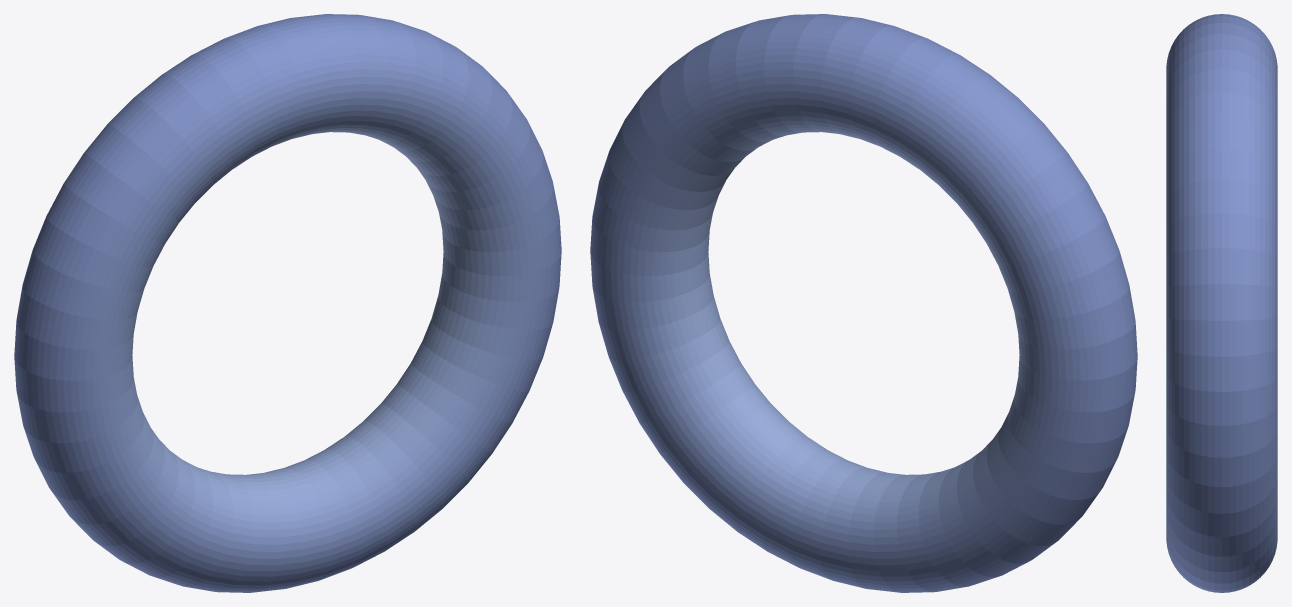
The picture shows the model from 3 angles, left to right: view 1: azimuth 30°, elevation 25°; view 2: azimuth 150°, elevation 25°; view 3: azimuth 270°, elevation 25°; orthographic projection. The views are drawn at different scales.
Visible parts, largest first — view 1: world; view 2: world; view 3: world.
Boxes of the visible parts, x1,y1,x2,y2 form: world: [14, 14, 561, 592]; world: [590, 14, 1137, 592]; world: [1166, 14, 1277, 592].
Size of the model in its own units: 21.47 by 21.42 by 4.13.
